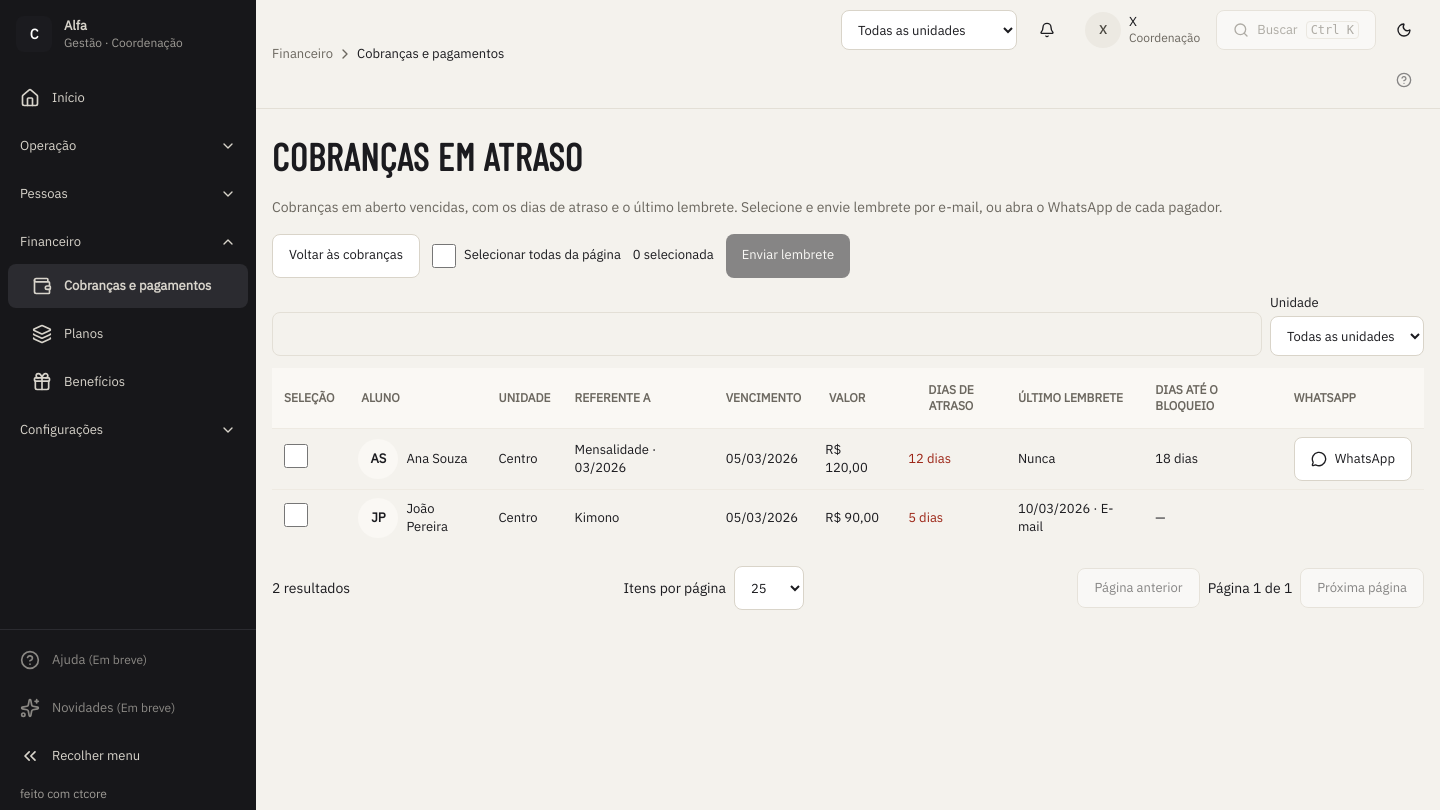
Test case: OverduePage (RF-COB-06) › CA26: sem seleção o botão fica desabilitado; seleciona 2, envia, mostra o resultado de cada uma e recarrega a lista
Check: the button "Enviar lembrete" is disabled, box [726,234,850,278]
Click the checkbox named "Selecionar Ana Souza": (296, 456) [284,444,308,468]
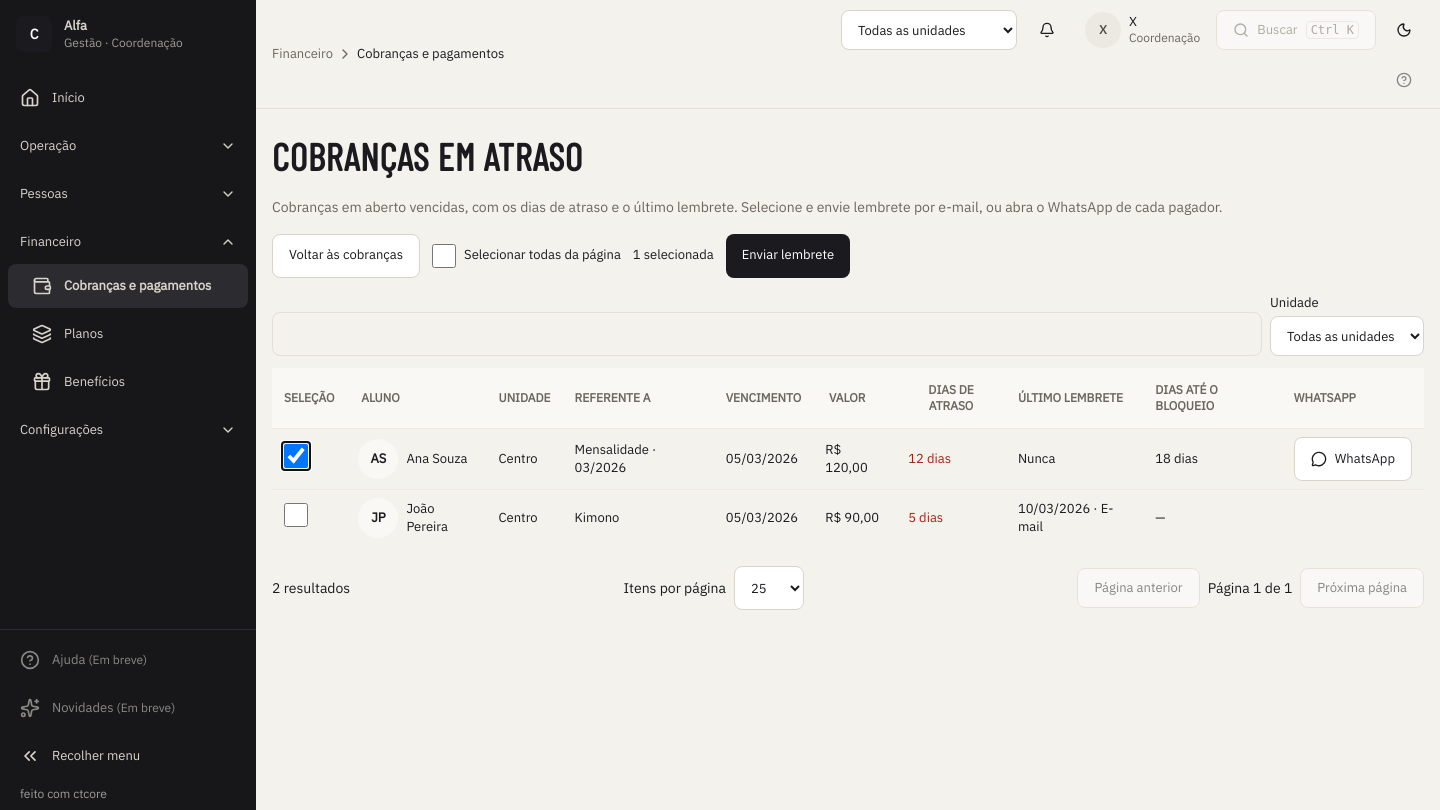
Click the checkbox named "Selecionar João Pereira": (296, 515) [284,503,308,527]
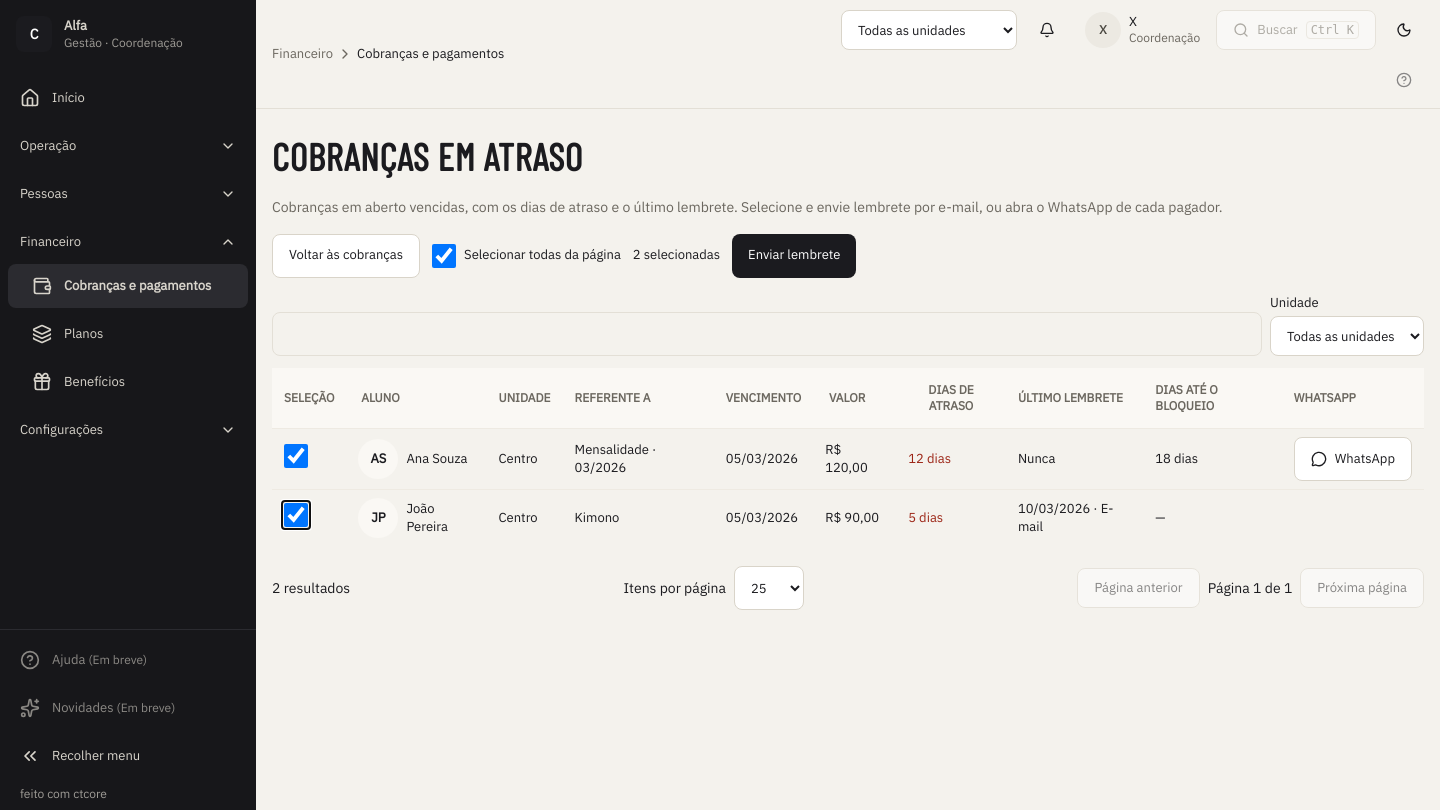
Check: the text "2 selecionadas" is shown, box [633,246,720,265]
Click the button "Enviar lembrete": (794, 256) [732,234,856,278]
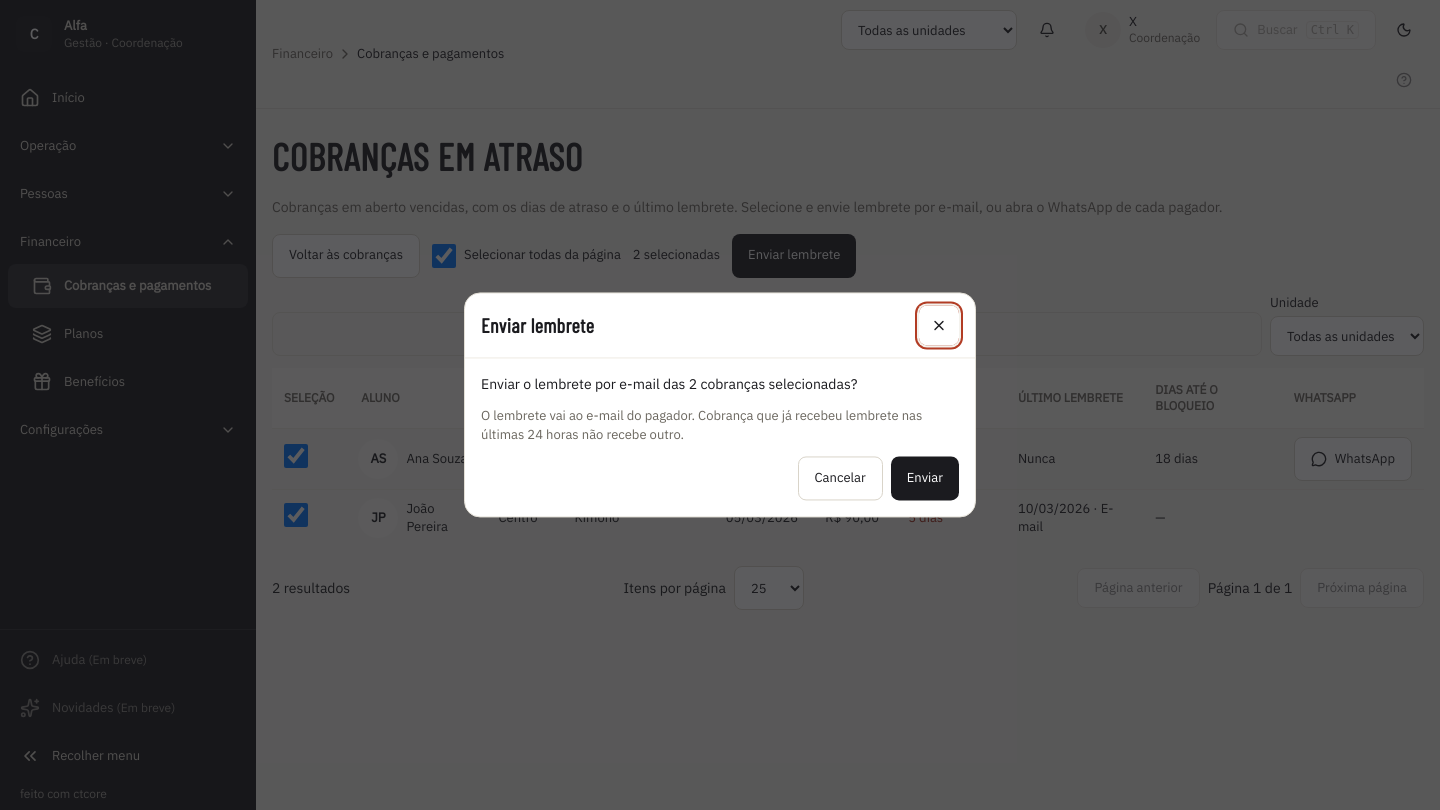
Check: the text "Enviar o lembrete por e-mail das 2 cobranças selecionadas?" is shown, box [481,375,857,393]
Click the button "Enviar": (925, 479) [891,457,959,501]
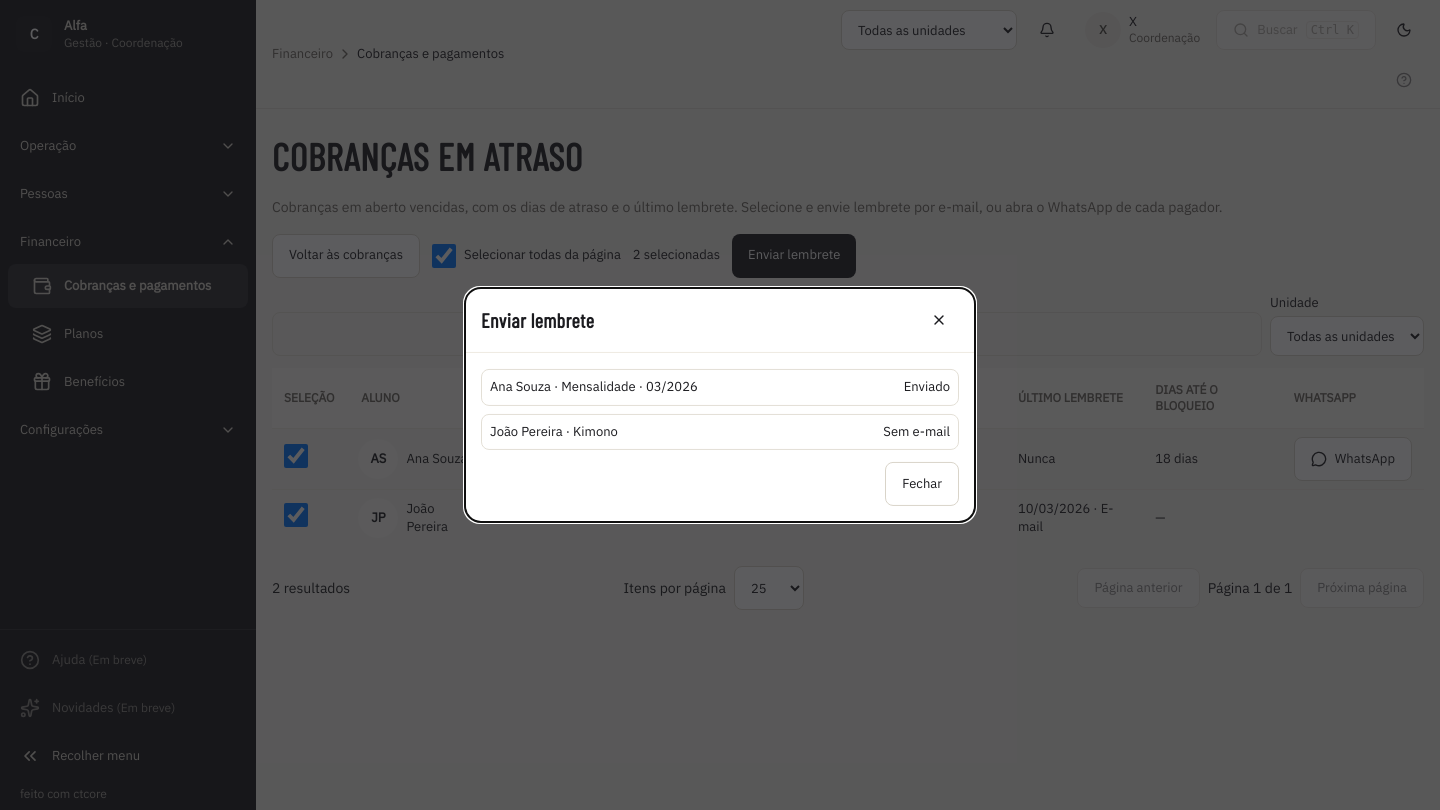
Check: the text "Ana Souza · Mensalidade · 03/2026" is shown, box [490,378,698,396]
Check: the text "Enviado" is shown, box [904,378,950,396]
Check: the text "Sem e-mail" is shown, box [883,422,950,441]
Click the button named "Fechar": (939, 320) [919,300,959,340]
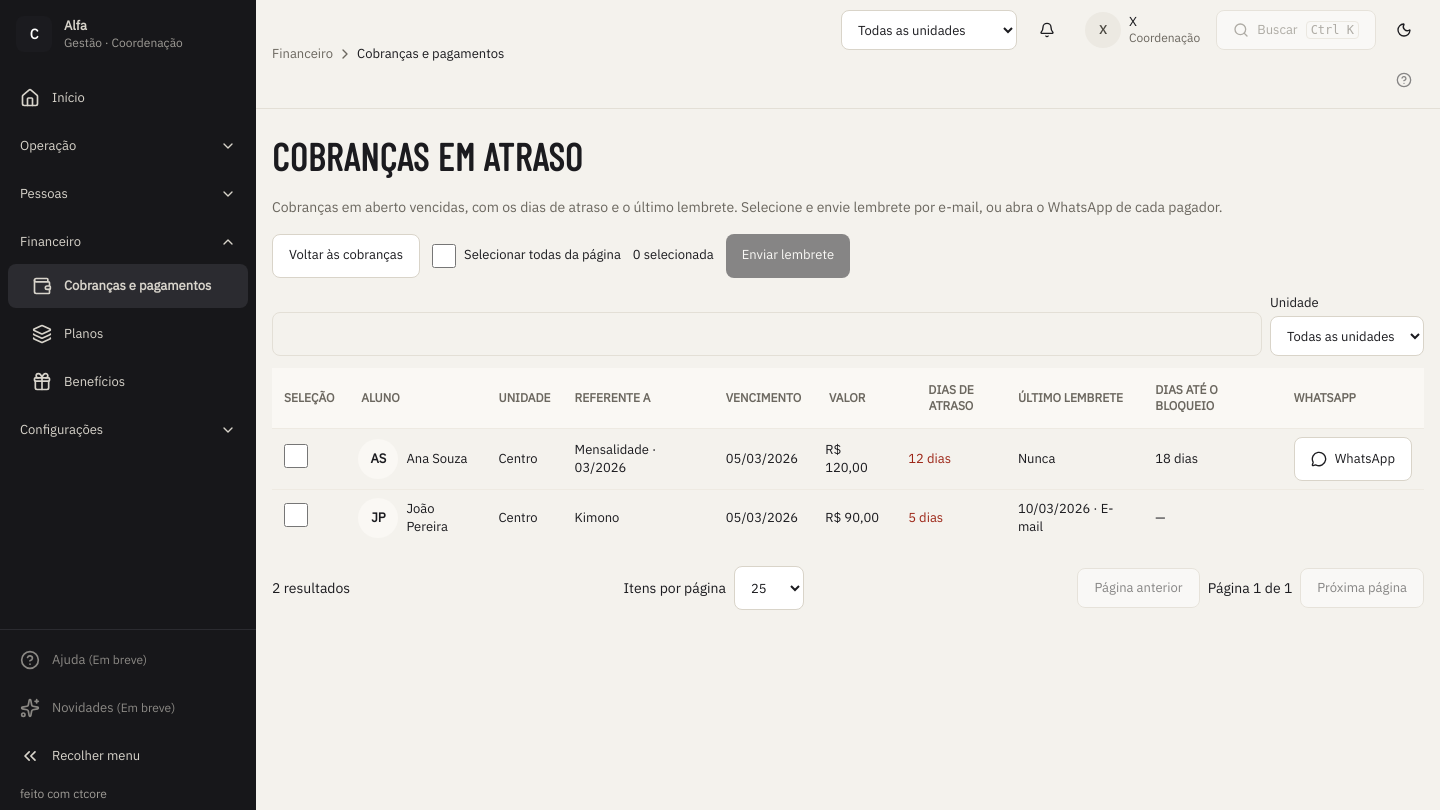
Check: the text "0 selecionada" is shown, box [633,246,714,265]
